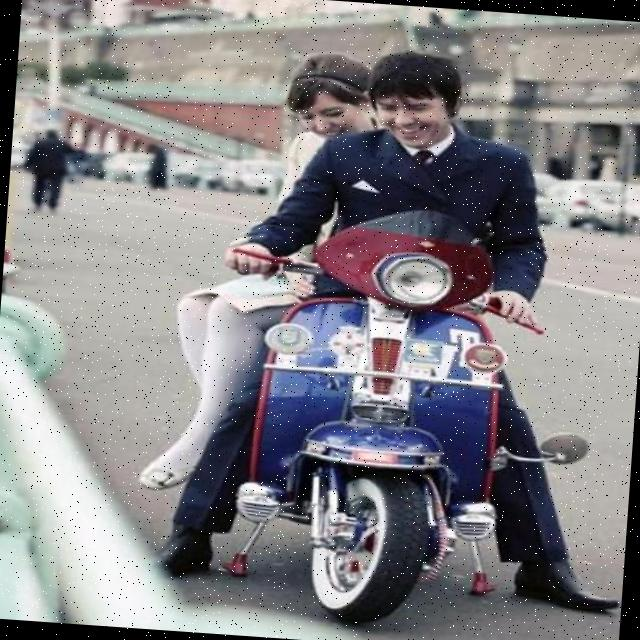No helmet: (362, 52, 471, 160)
